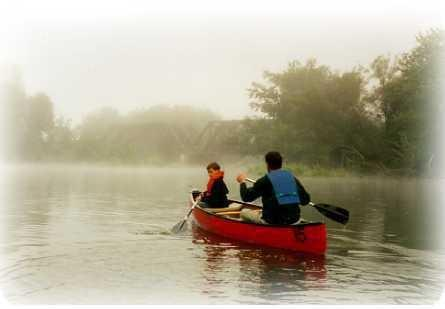kayak: (190, 201, 327, 255)
